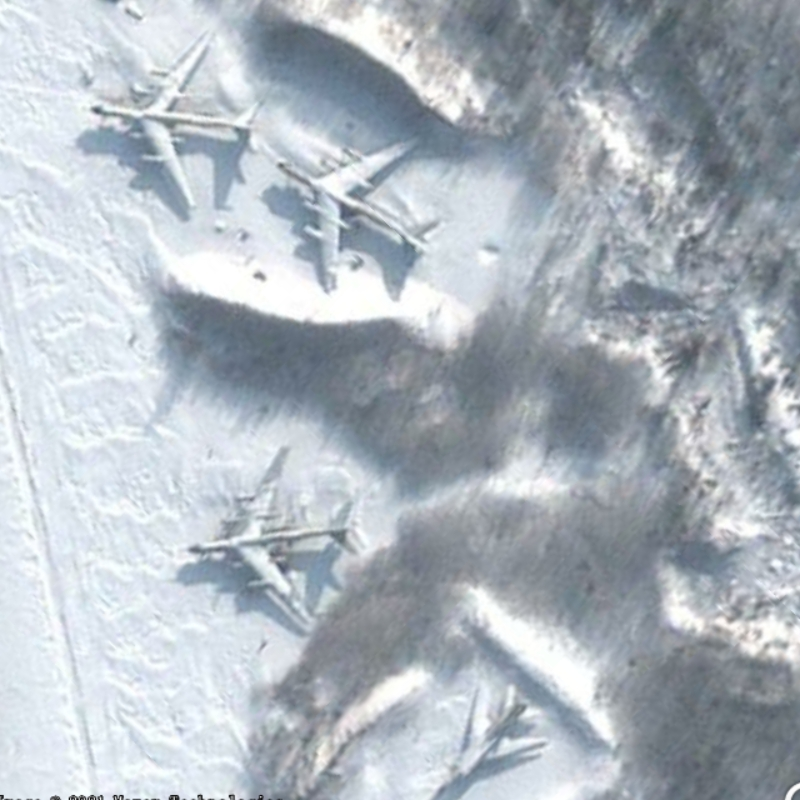A12: (425, 680, 553, 800)
A17: (181, 446, 368, 635), (87, 25, 267, 216), (272, 130, 444, 295)
